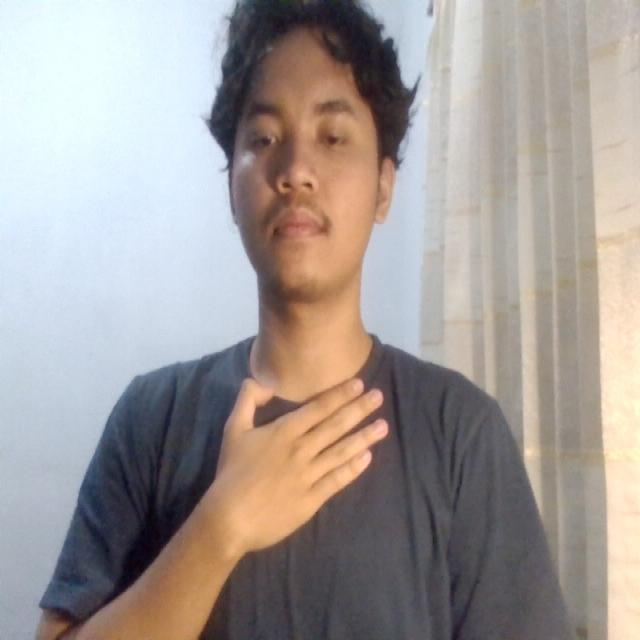Nama: (182, 347, 404, 568)
